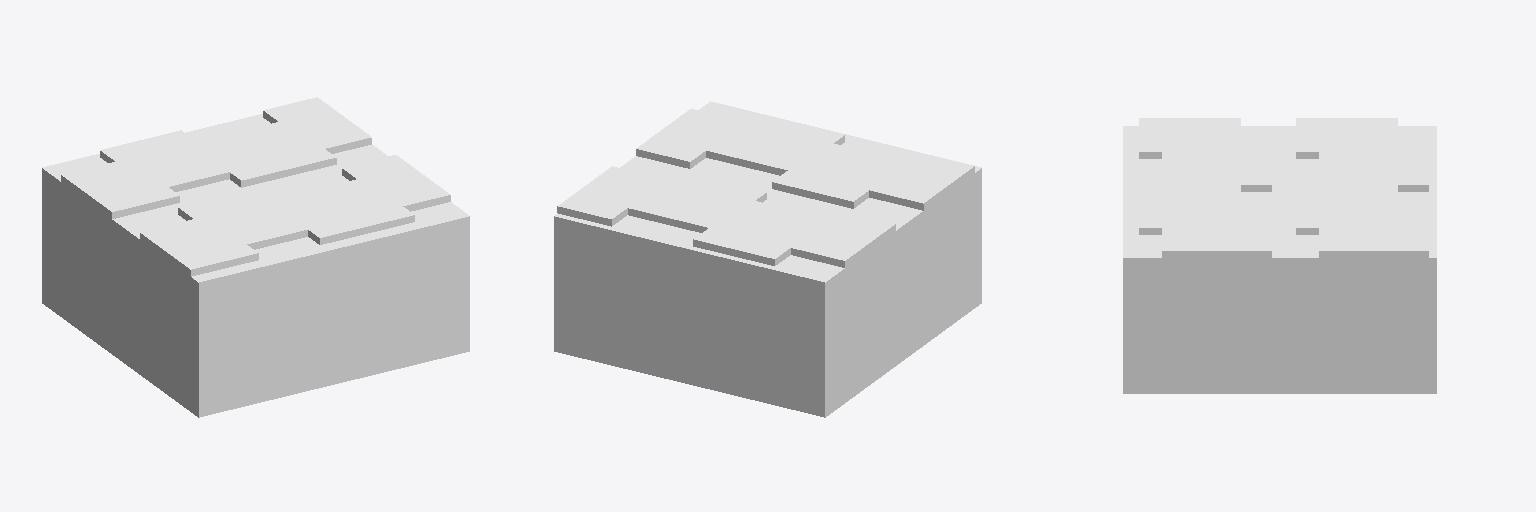
File: desert.obj
The picture shows the model from 3 angles: view 1: azimuth 30°, elevation 25°; view 2: azimuth 150°, elevation 25°; view 3: azimuth 270°, elevation 25°; orthographic projection.
Visible parts, largest first — view 1: desert; view 2: desert; view 3: desert.
Boxes of the visible parts, x1=… form: desert: x1=42, y1=97, x2=469, y2=417; desert: x1=554, y1=101, x2=981, y2=417; desert: x1=1123, y1=118, x2=1436, y2=393.
Bounding box in the file's own units: 40 × 20 × 40.